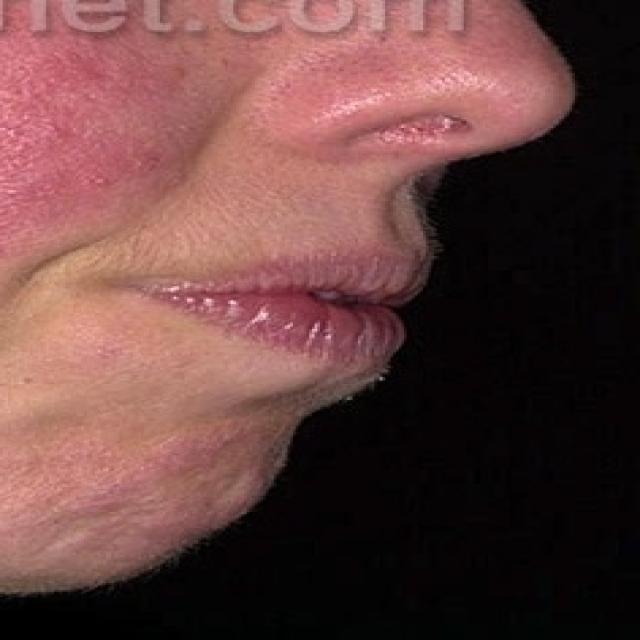Rosacea: (0, 35, 194, 240), (0, 416, 254, 539)
